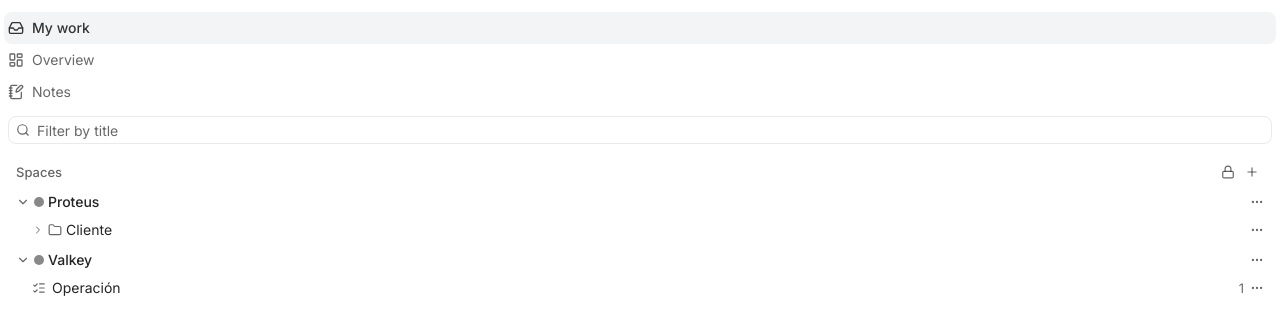
Test case: el panel de Trabajo › sin coincidencias lo dice
Step 1. Type "zzz" into the search field labelled "Filter by title" → (640, 130), box [8,116,1272,144]
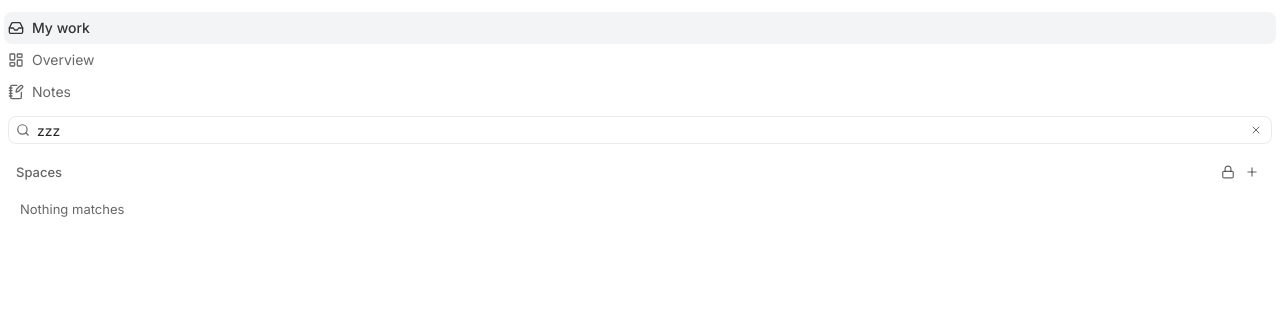
Expected: the text "Nothing matches" is shown, [20,201,124,217]
